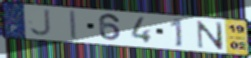1: (168, 18, 184, 49)
4: (130, 16, 154, 45)
6: (98, 13, 123, 43)
I: (68, 10, 79, 41)
J: (28, 8, 53, 38)
N: (196, 20, 225, 51)
